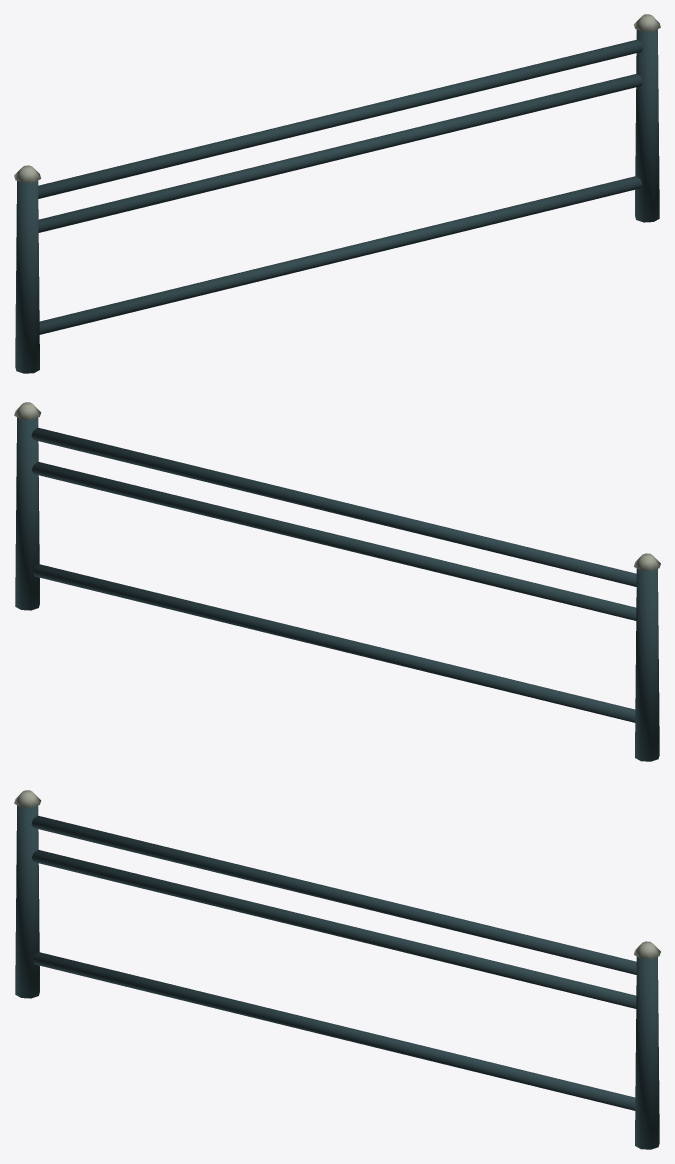
The model's file is quay-guardrail.glb.
The picture shows the model from 3 angles, top to bottom: view 1: azimuth 30°, elevation 25°; view 2: azimuth 150°, elevation 25°; view 3: azimuth 330°, elevation 25°; orthographic projection.
Visible parts, largest first — view 1: quay-guardrail; view 2: quay-guardrail; view 3: quay-guardrail.
Boxes of the visible parts, left/top/right/bottom form: quay-guardrail: left=14, top=14, right=660, bottom=373; quay-guardrail: left=14, top=402, right=660, bottom=761; quay-guardrail: left=14, top=790, right=660, bottom=1149.
Bounding box in the file's own units: 4.16 × 1.24 × 0.158.
